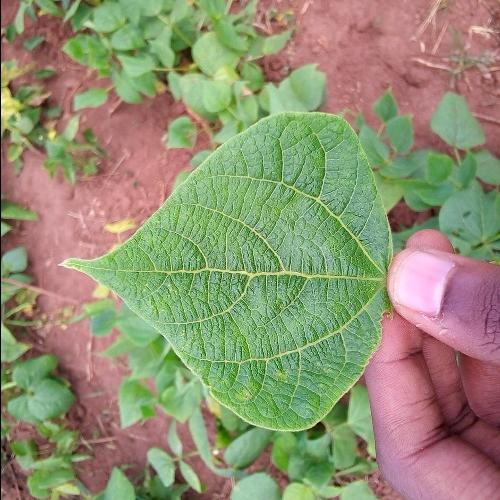sehat: (194, 186, 363, 369)
